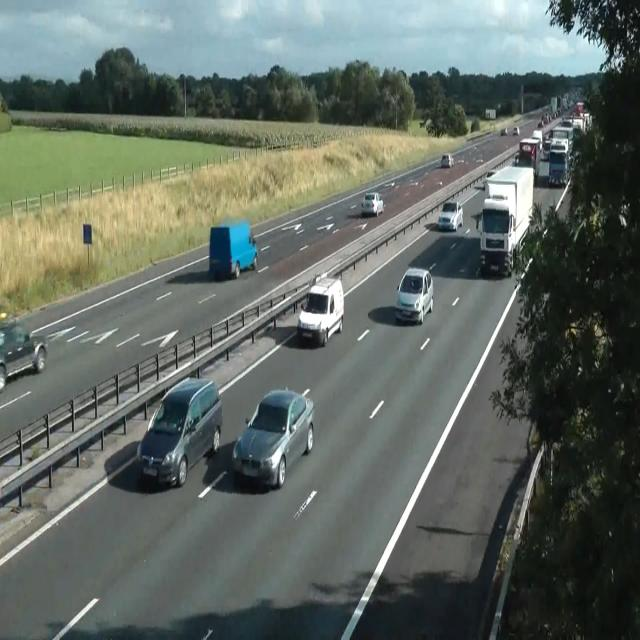bus: (0, 320, 48, 392), (437, 200, 463, 231), (361, 191, 384, 216), (519, 138, 539, 156), (542, 138, 551, 160), (441, 153, 453, 167), (512, 126, 520, 134), (500, 127, 507, 135)
car: (514, 100, 594, 186)
jeep: (136, 376, 222, 488), (232, 386, 314, 489), (296, 274, 344, 346), (478, 196, 514, 276), (395, 266, 433, 324)
minibus: (478, 165, 534, 276), (208, 220, 258, 280), (517, 137, 541, 179), (485, 109, 495, 119)
